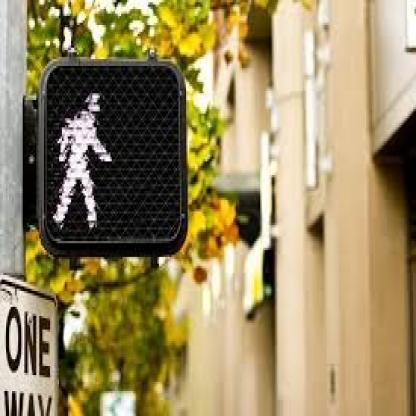Walk: (39, 63, 189, 250)
